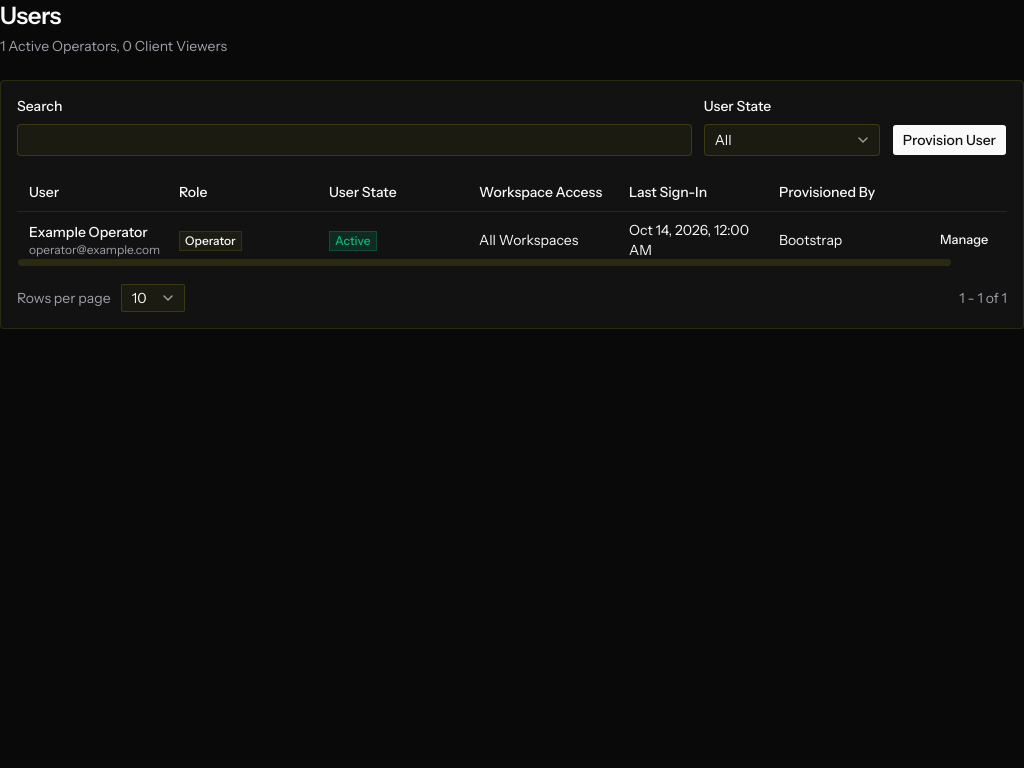
Scenario: application shell › protects the last Active Operator in the Manage dialog
Click the button with aria-label "Manage Example Operator". click: (964, 240)
box: [929, 226, 999, 254]
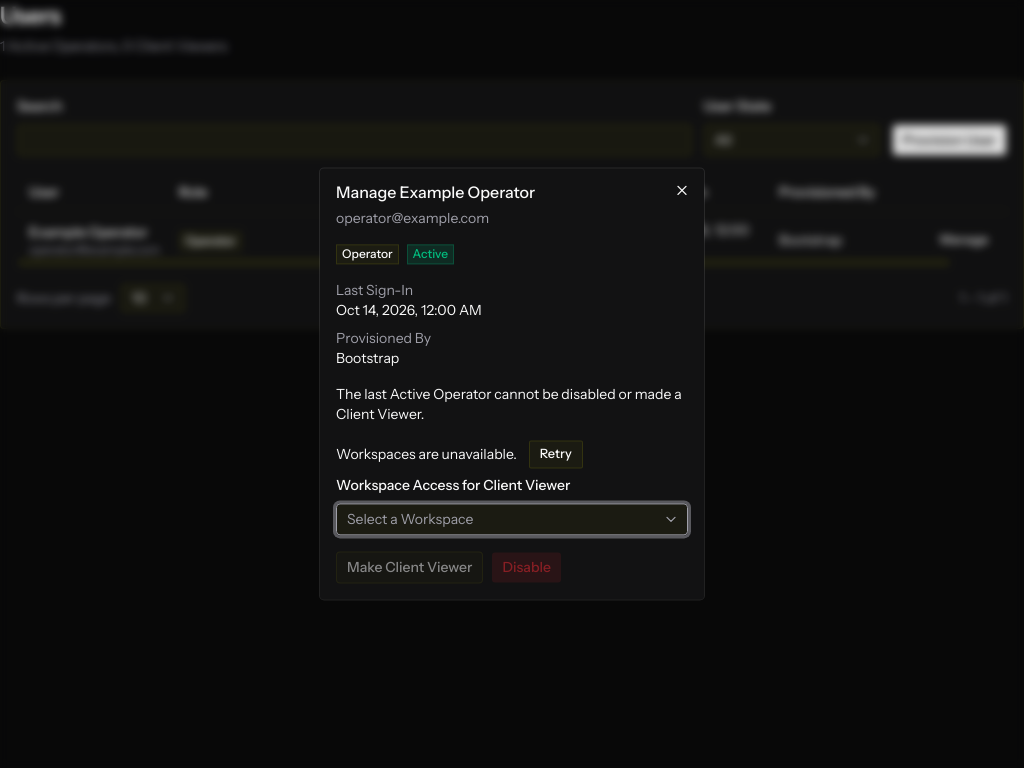
Result: the text "The last Active Operator cannot be disabled or made a Client Viewer." is shown at [336, 384, 688, 424]
Result: the button "Disable" is disabled at [491, 552, 562, 584]
